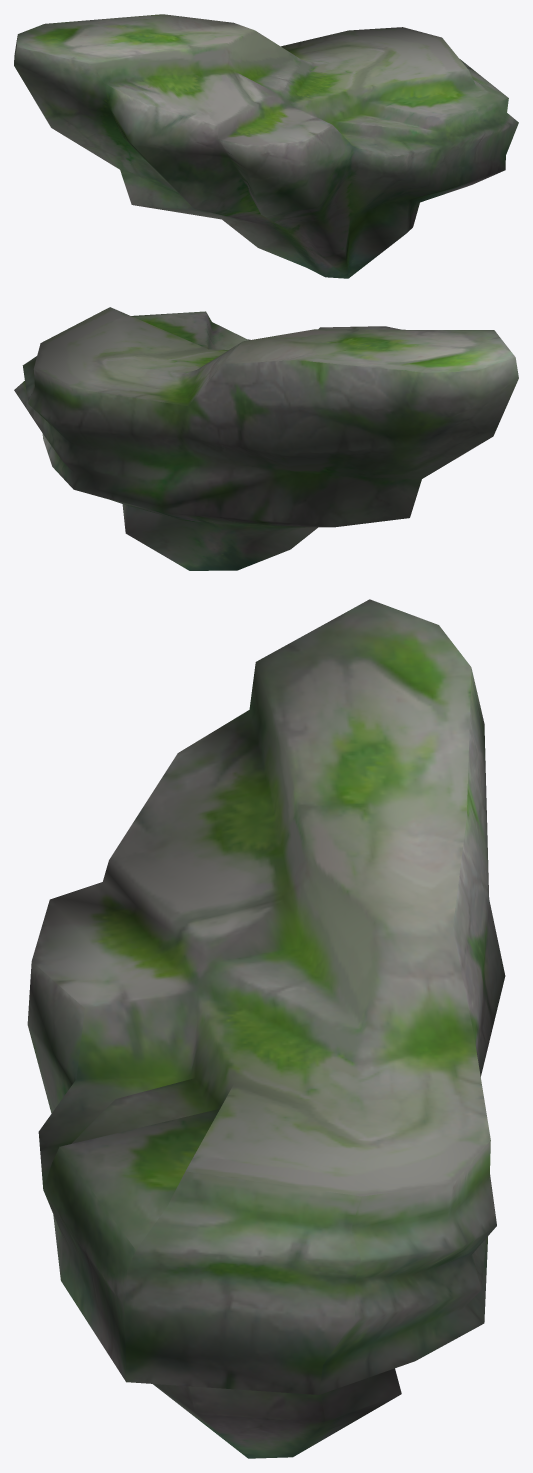
Rendered from scene_malujiakuangdao_shan012.FBX.
3 renders of one model, top to bottom at view 1: azimuth 30°, elevation 25°; view 2: azimuth 150°, elevation 25°; view 3: azimuth 270°, elevation 25°, orthographic. The views are drawn at different scales.
Visible parts, largest first — view 1: scene_malujiakuangdao_shan012; view 2: scene_malujiakuangdao_shan012; view 3: scene_malujiakuangdao_shan012.
Part boxes in pixels (box(x1,y1,x2,y2)): scene_malujiakuangdao_shan012: box(14, 14, 518, 278); scene_malujiakuangdao_shan012: box(14, 307, 518, 570); scene_malujiakuangdao_shan012: box(27, 599, 505, 1458).
Bounding box in the file's own units: 660 × 395 × 303.
